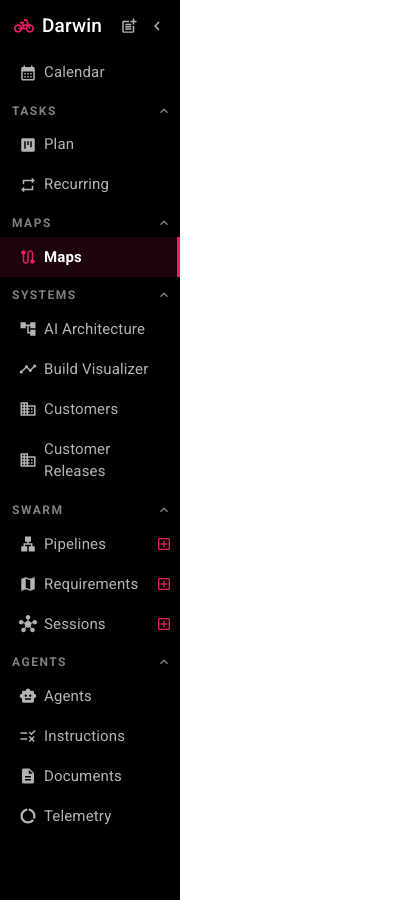
Test: Requirement Filer (req #3811) › opens from the navbar control and is an Action Popup like the others
Step 1. Click the button with test id "navbar-requirement-filer" → (129, 26), box [118, 15, 140, 37]
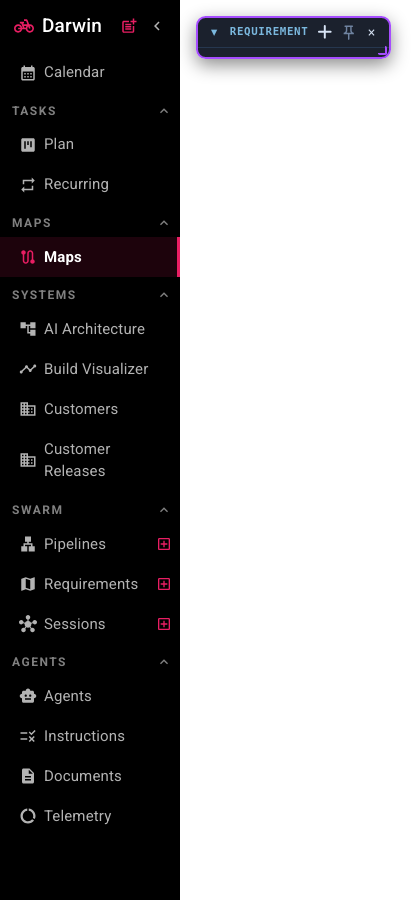
Now the text with test id "requirement-filer-title" reads "Requirement", box [230, 25, 308, 38]
Now the button with test id "requirement-filer-toggle" is shown, box [206, 24, 223, 40]
Now the element with test id "requirement-filer-list" is empty, box [198, 50, 364, 55]
Step 2. Click the button with test id "requirement-filer-close" → (372, 32), box [362, 23, 381, 42]
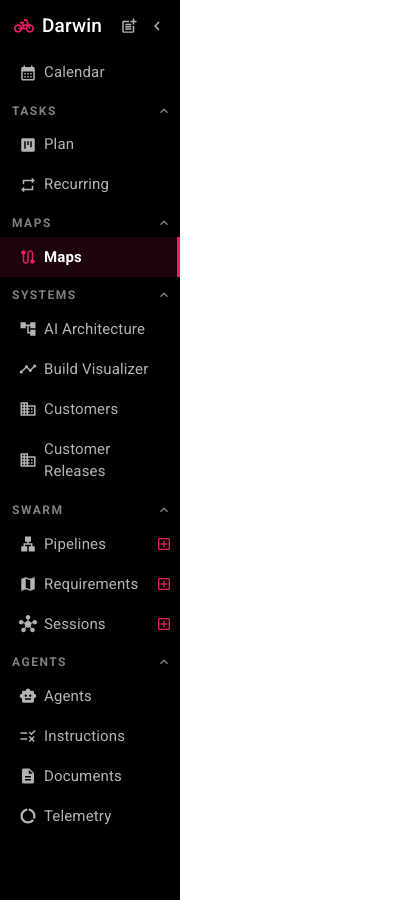
Now the element with test id "requirement-filer" is gone
Step 3. Click the button with test id "navbar-requirement-filer" → (129, 26), box [118, 15, 140, 37]
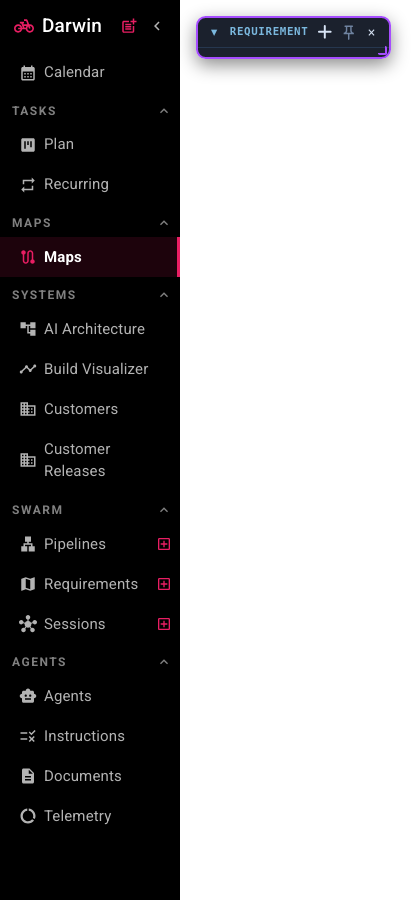
Now the element with test id "requirement-filer" is shown, box [196, 16, 391, 59]
